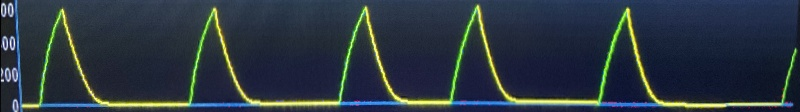normal_volume: (25, 0, 800, 112)
